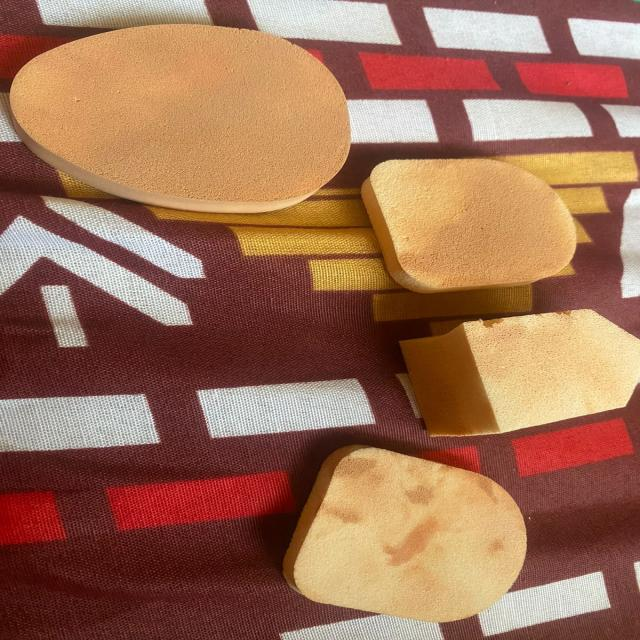beauty blender: (9, 13, 363, 227), (268, 424, 560, 636), (342, 138, 598, 302), (369, 307, 640, 444)
